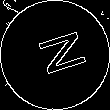N_W: (25, 28, 85, 82)
